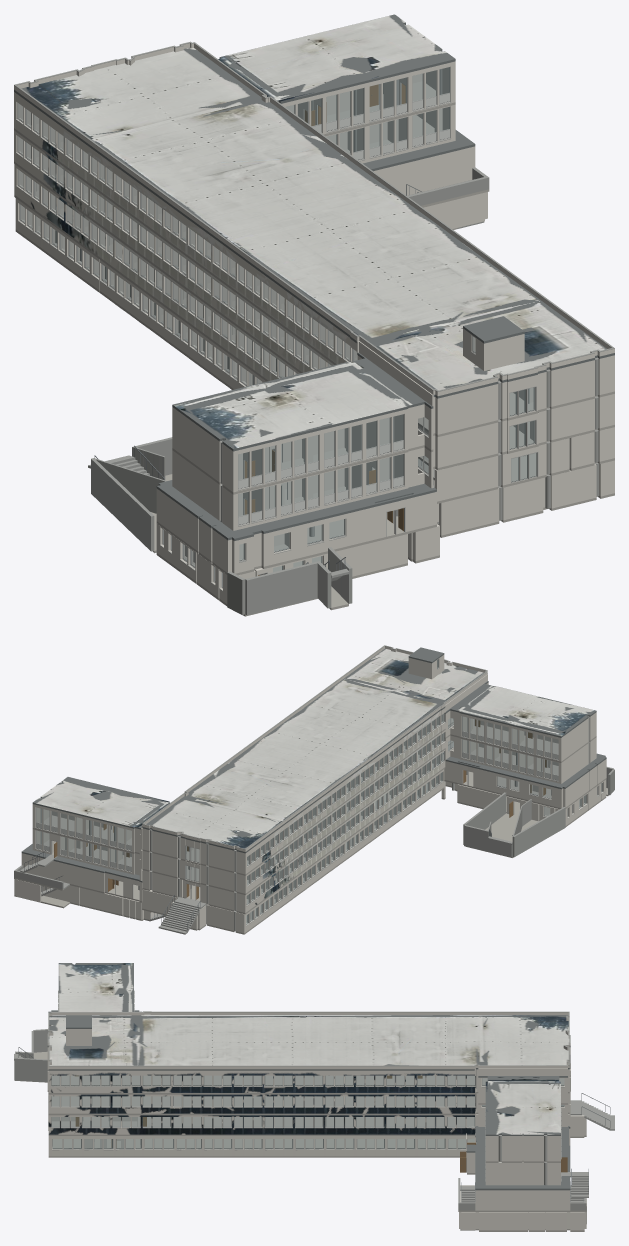
3 views of the same model, one above another, from view 1: azimuth 30°, elevation 25°; view 2: azimuth 150°, elevation 25°; view 3: azimuth 270°, elevation 25° (orthographic). The views are drawn at different scales.
Visible parts, largest first — view 1: b01:n04:slab:roof, b01:n03:wall:plaster, b01:n02:wall:plaster, b01:n01:wall:plaster, b01:p01:wall:plaster, b01:p01:retaining-wall:concrete, b01:n03:window-glass:glass, b01:n02:window-glass:glass, b01:n04:parapet:plaster, b01:n03:window-frame:frame, b01:n01:slab:roof, b01:n03:slab:floor (+18 smaller); view 2: b01:n04:slab:roof, b01:n03:wall:plaster, b01:n01:wall:plaster, b01:n02:wall:plaster, b01:p01:wall:plaster, b01:p01:retaining-wall:concrete, b01:n03:window-glass:glass, b01:n02:window-glass:glass, b01:n03:slab:floor, b01:p01:slab:floor, b01:n04:parapet:plaster, b01:n01:slab:floor (+20 smaller); view 3: b01:n04:slab:roof, b01:n03:wall:plaster, b01:p01:wall:plaster, b01:n02:wall:plaster, b01:n01:wall:plaster, b01:n03:slab:floor, b01:n02:slab:floor, b01:n01:slab:floor, b01:p01:slab:floor, b01:n04:parapet:plaster, b01:n03:window-glass:glass, b01:n01:window-glass:glass (+19 smaller).
Part boxes in pixels (x1,y1,x2,y2): b01:n04:slab:roof: (14,14,614,451); b01:n03:wall:plaster: (14,61,614,492); b01:n02:wall:plaster: (14,104,614,530); b01:n01:wall:plaster: (14,146,614,573); b01:p01:wall:plaster: (15,192,614,603); b01:p01:retaining-wall:concrete: (91,437,352,615); b01:n03:window-glass:glass: (18,67,449,479); b01:n02:window-glass:glass: (18,107,449,515); b01:n04:parapet:plaster: (14,43,614,395); b01:n03:window-frame:frame: (17,66,450,489); b01:n01:slab:roof: (156,130,475,540); b01:n03:slab:floor: (14,81,614,494); b01:n04:slab:roof: (32,647,596,853); b01:n03:wall:plaster: (32,682,596,874); b01:n01:wall:plaster: (21,750,606,912); b01:n02:wall:plaster: (32,723,596,893); b01:p01:wall:plaster: (14,769,606,933); b01:p01:retaining-wall:concrete: (463,767,614,857); b01:n03:window-glass:glass: (36,714,558,865); b01:n02:window-glass:glass: (36,733,558,884); b01:n03:slab:floor: (32,718,596,875); b01:p01:slab:floor: (14,783,608,934); b01:n04:parapet:plaster: (142,646,487,851); b01:n01:slab:floor: (14,763,606,914); b01:n04:slab:roof: (47,963,570,1135); b01:n03:wall:plaster: (47,1047,570,1161); b01:p01:wall:plaster: (48,1113,586,1230); b01:n02:wall:plaster: (47,1063,570,1185); b01:n01:wall:plaster: (48,1092,570,1210); b01:n03:slab:floor: (47,1069,569,1162); b01:n02:slab:floor: (47,1090,570,1115); b01:n01:slab:floor: (48,1111,586,1211); b01:p01:slab:floor: (14,1051,586,1231); b01:n04:parapet:plaster: (47,1012,570,1069); b01:n03:window-glass:glass: (52,1076,563,1085); b01:n01:window-glass:glass: (52,1117,474,1126).
Bounding box in the file's own units: 53.16 × 16.4 × 75.12.
Materials: 19 (8 with a texture image).
